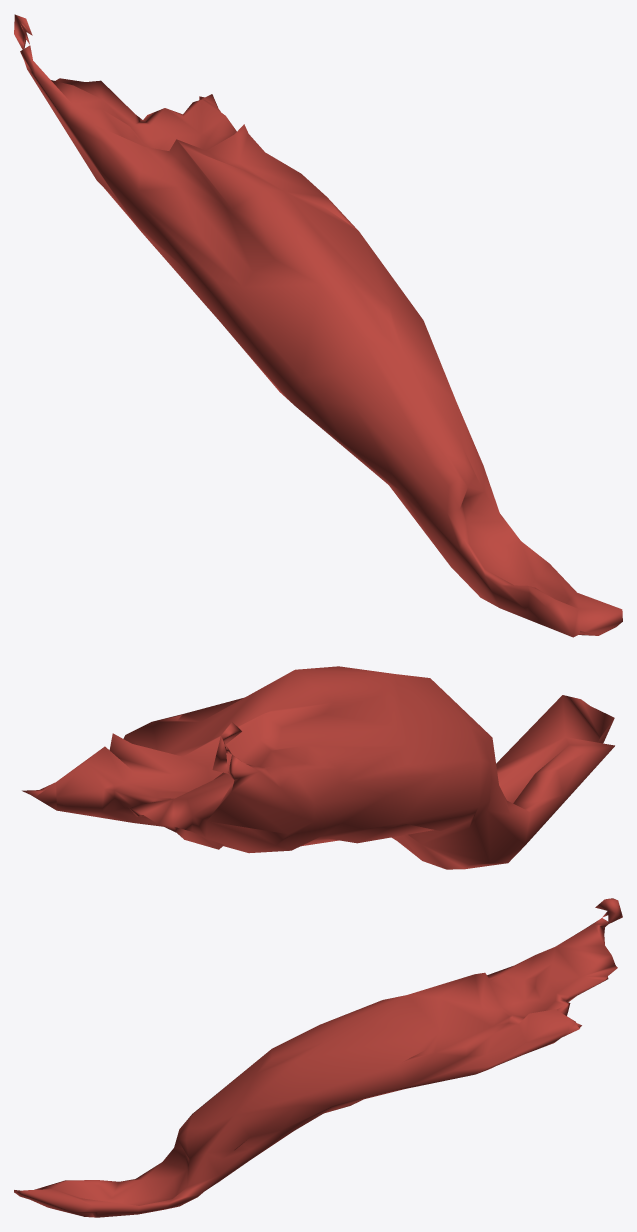
Rendered from musculos-lateral-head-of-flexor-hallucis-brevis-l.glb.
3 views of the same model, one above another, from view 1: azimuth 30°, elevation 25°; view 2: azimuth 150°, elevation 25°; view 3: azimuth 270°, elevation 25° (orthographic). The views are drawn at different scales.
Visible parts, largest first — view 1: Lateral head of flexor hallucis brevis.l; view 2: Lateral head of flexor hallucis brevis.l; view 3: Lateral head of flexor hallucis brevis.l.
Boxes of the visible parts, x1,y1,x2,y2 form: Lateral head of flexor hallucis brevis.l: (14,14,622,637); Lateral head of flexor hallucis brevis.l: (22,666,614,869); Lateral head of flexor hallucis brevis.l: (14,898,622,1217).
Bounding box in the file's own units: 0.0209 × 0.0385 × 0.081.
